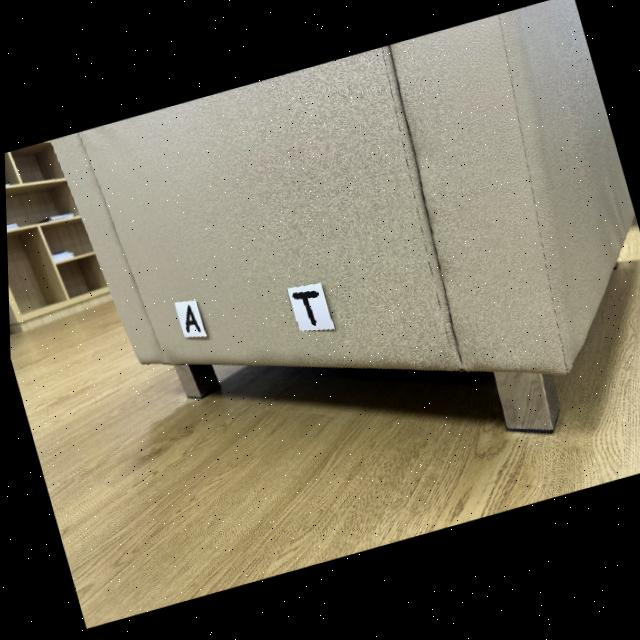A: (183, 306, 199, 333)
T: (290, 292, 316, 327)
